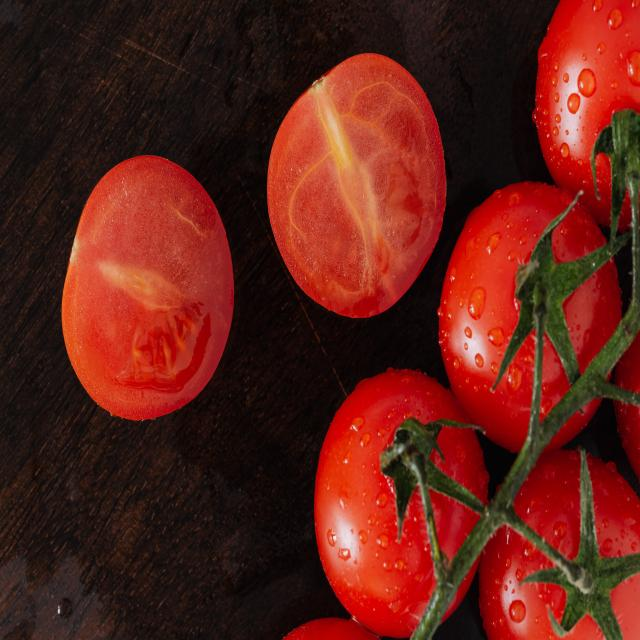Tomato: (49, 140, 247, 438), (308, 346, 498, 629), (273, 46, 464, 326), (455, 174, 631, 446)
